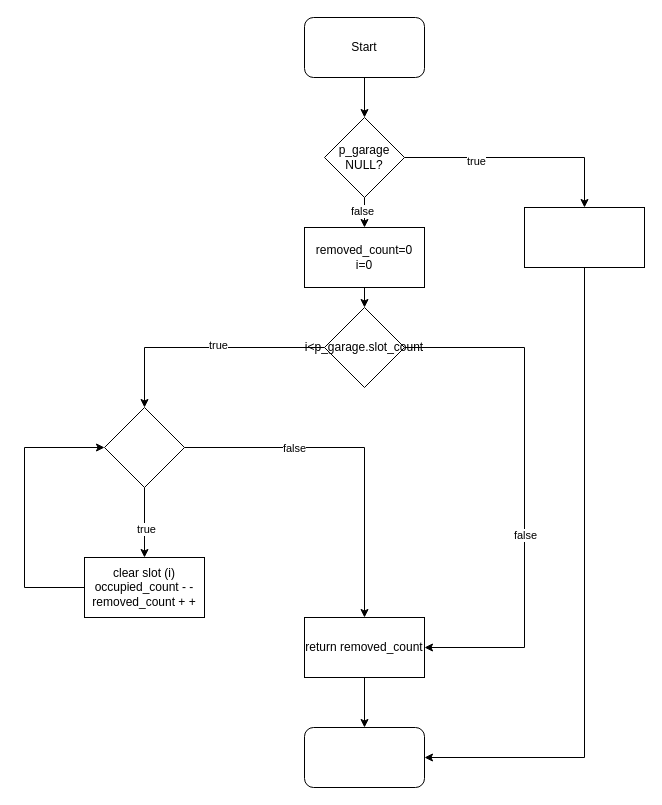
Some shapes in this 662 by 805 pixel diagram are drawn without their labels. Each missing label, with the centre of its shape:
End: the point at 364,757
return 0: the point at 584,237
Slot (i) belegt und Abfahrtszeit<=current_time: the point at 144,447
